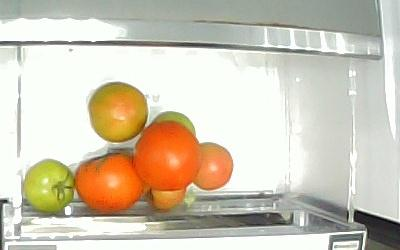tomato: (132, 121, 201, 192), (73, 153, 144, 212), (89, 80, 148, 142), (24, 160, 74, 215), (192, 140, 233, 191), (151, 110, 197, 140), (143, 186, 187, 213)
